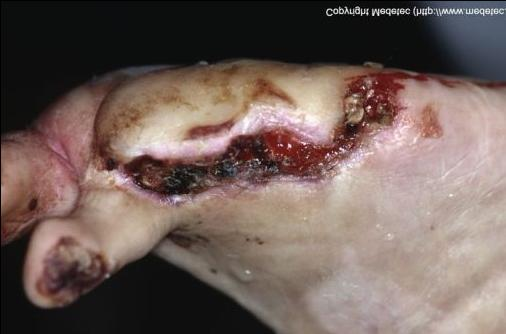NonPU: (0, 70, 456, 301)
